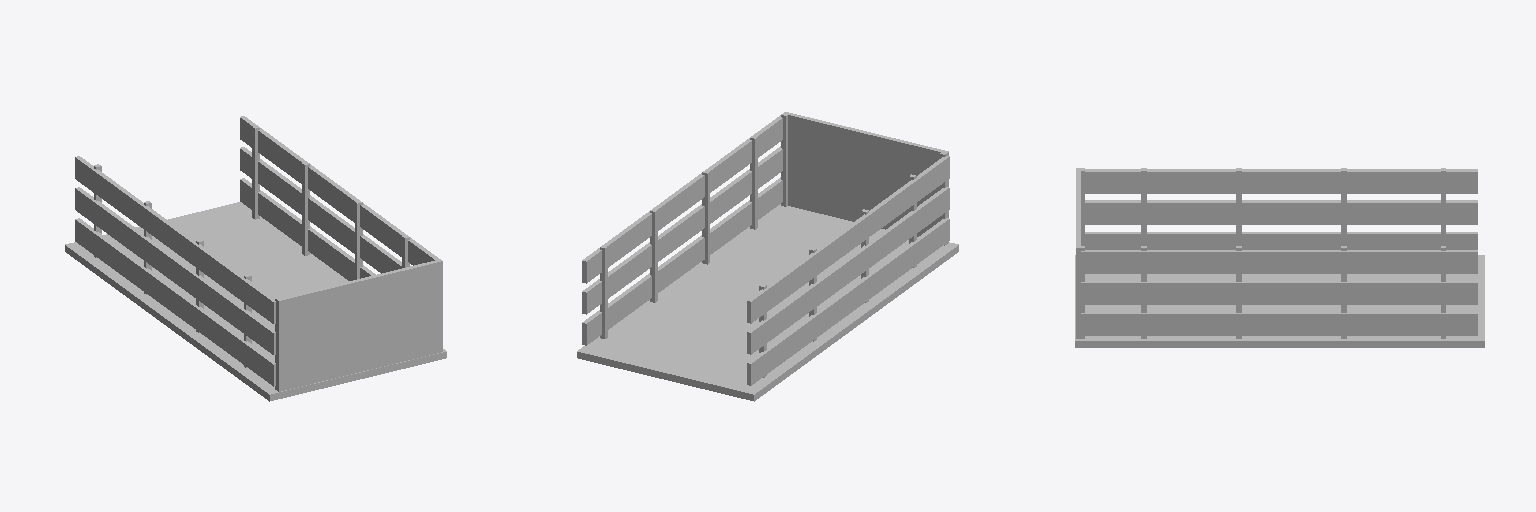
File: Cart.obj
The picture shows the model from 3 angles: view 1: azimuth 30°, elevation 25°; view 2: azimuth 150°, elevation 25°; view 3: azimuth 270°, elevation 25°; orthographic projection.
Parts seen in each view (by area): view 1: Cart; view 2: Cart; view 3: Cart.
Part boxes in pixels (bbox=[...]): Cart: bbox=[65, 116, 446, 401]; Cart: bbox=[577, 112, 958, 401]; Cart: bbox=[1075, 168, 1484, 347].
Size of the model in its own units: 2.16 by 1.14 by 4.32.